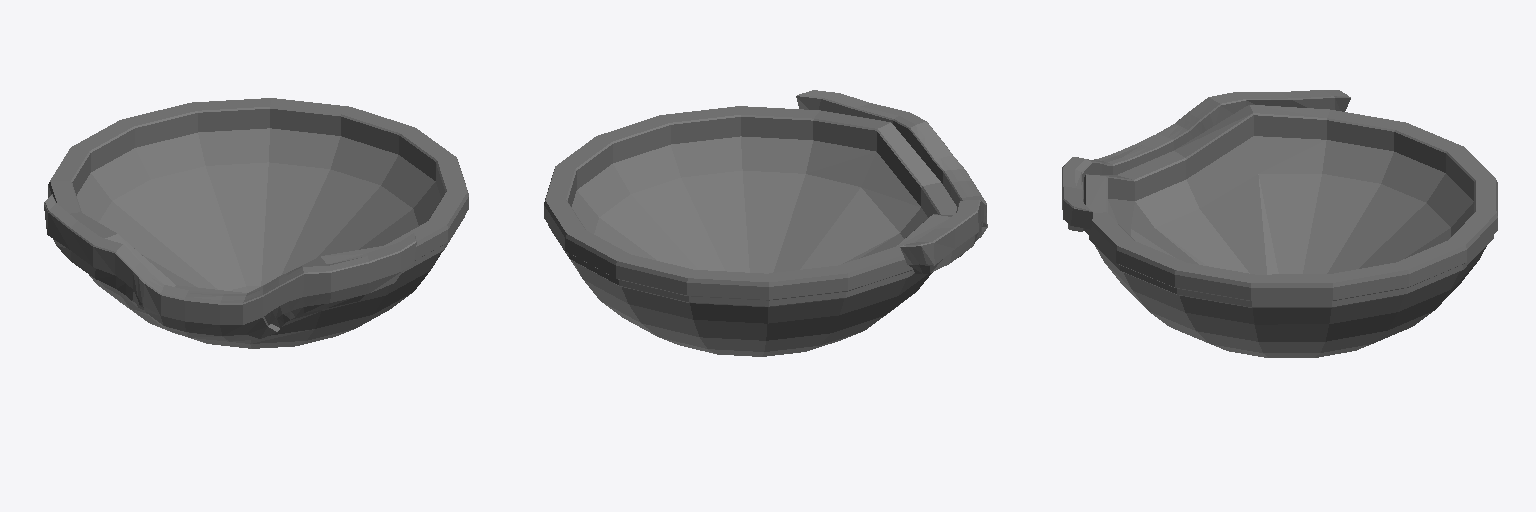
The model's file is Griffin_Nest.obj.
The picture shows the model from 3 angles: view 1: azimuth 30°, elevation 25°; view 2: azimuth 150°, elevation 25°; view 3: azimuth 270°, elevation 25°; orthographic projection.
Parts seen in each view (by area): view 1: Griffen_Nest_Rough1:pSphere2; view 2: Griffen_Nest_Rough1:pSphere2; view 3: Griffen_Nest_Rough1:pSphere2.
Part boxes in pixels (x1,y1,x2,y2): Griffen_Nest_Rough1:pSphere2: (44, 98, 468, 348); Griffen_Nest_Rough1:pSphere2: (544, 90, 987, 356); Griffen_Nest_Rough1:pSphere2: (1062, 90, 1497, 357).
Size of the model in its own units: 1375 by 541 by 1384.